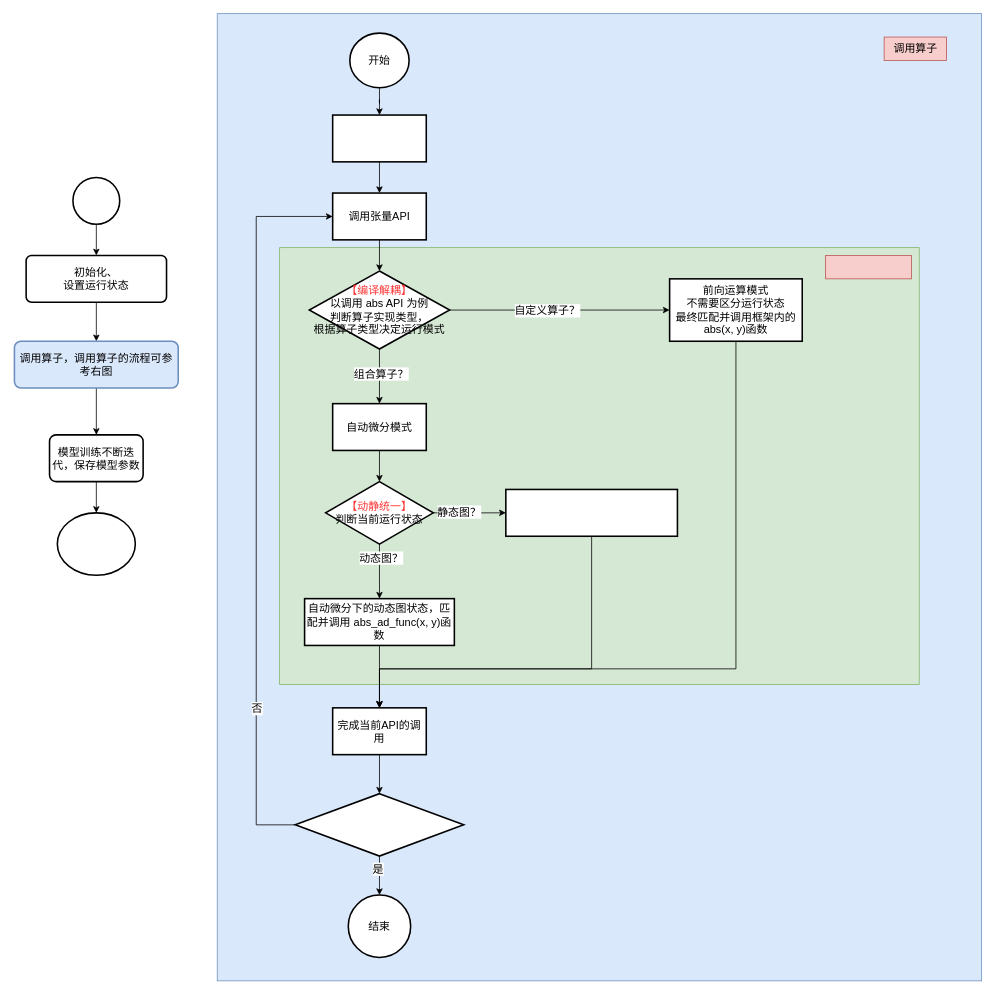
Image size: 995x994. Some labels were removed from this diagram. Each missing label, with the box of its shape:
【批量挂载】 框架为张量批量挂载 API: (332, 114, 427, 162)
【自动分发】: (825, 255, 911, 279)
模型开始: (72, 176, 120, 225)
模型训练完毕: (56, 512, 136, 576)
自动微分下的静态图状态，构造 abs 算子类，调用 abs 类中的 Apply 函数: (505, 488, 678, 537)
调用完成算子内的所有API？: (294, 792, 464, 856)
